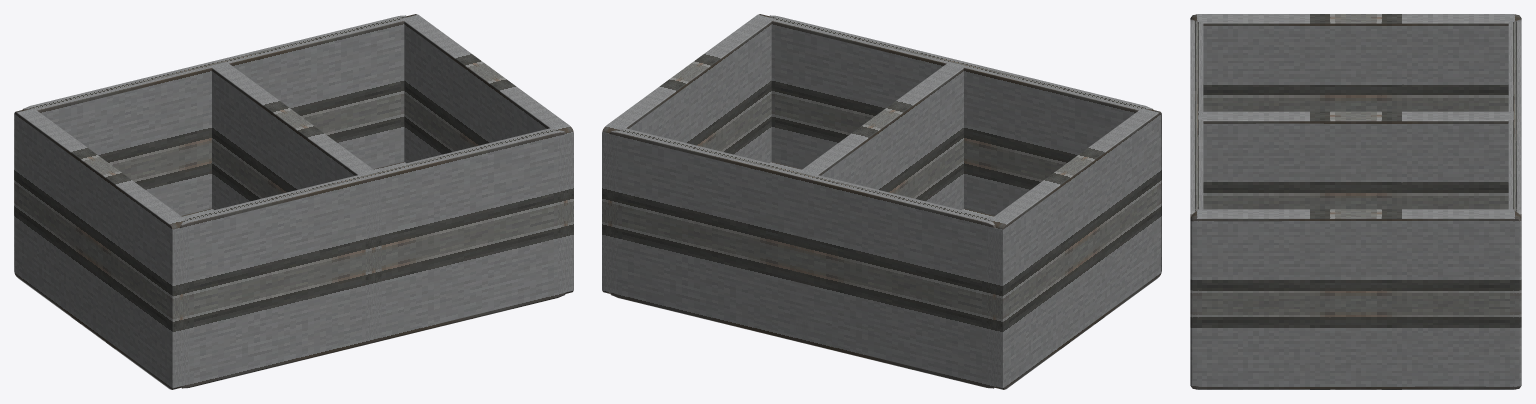
Rendered from sink.glb.
3 renders of one model, left to right at view 1: azimuth 30°, elevation 25°; view 2: azimuth 150°, elevation 25°; view 3: azimuth 270°, elevation 25°, orthographic. The views are drawn at different scales.
Parts seen in each view (by area): view 1: wall (×5); view 2: wall (×5); view 3: wall (×5).
Boxes of the visible parts, x1,y1,x2,y2 form: wall (×5): (14, 14, 573, 389); wall (×5): (602, 14, 1161, 389); wall (×5): (1190, 14, 1521, 389).
Bounding box in the file's own units: 0.7856 × 0.31 × 0.54.
2 materials, 2 textured.
